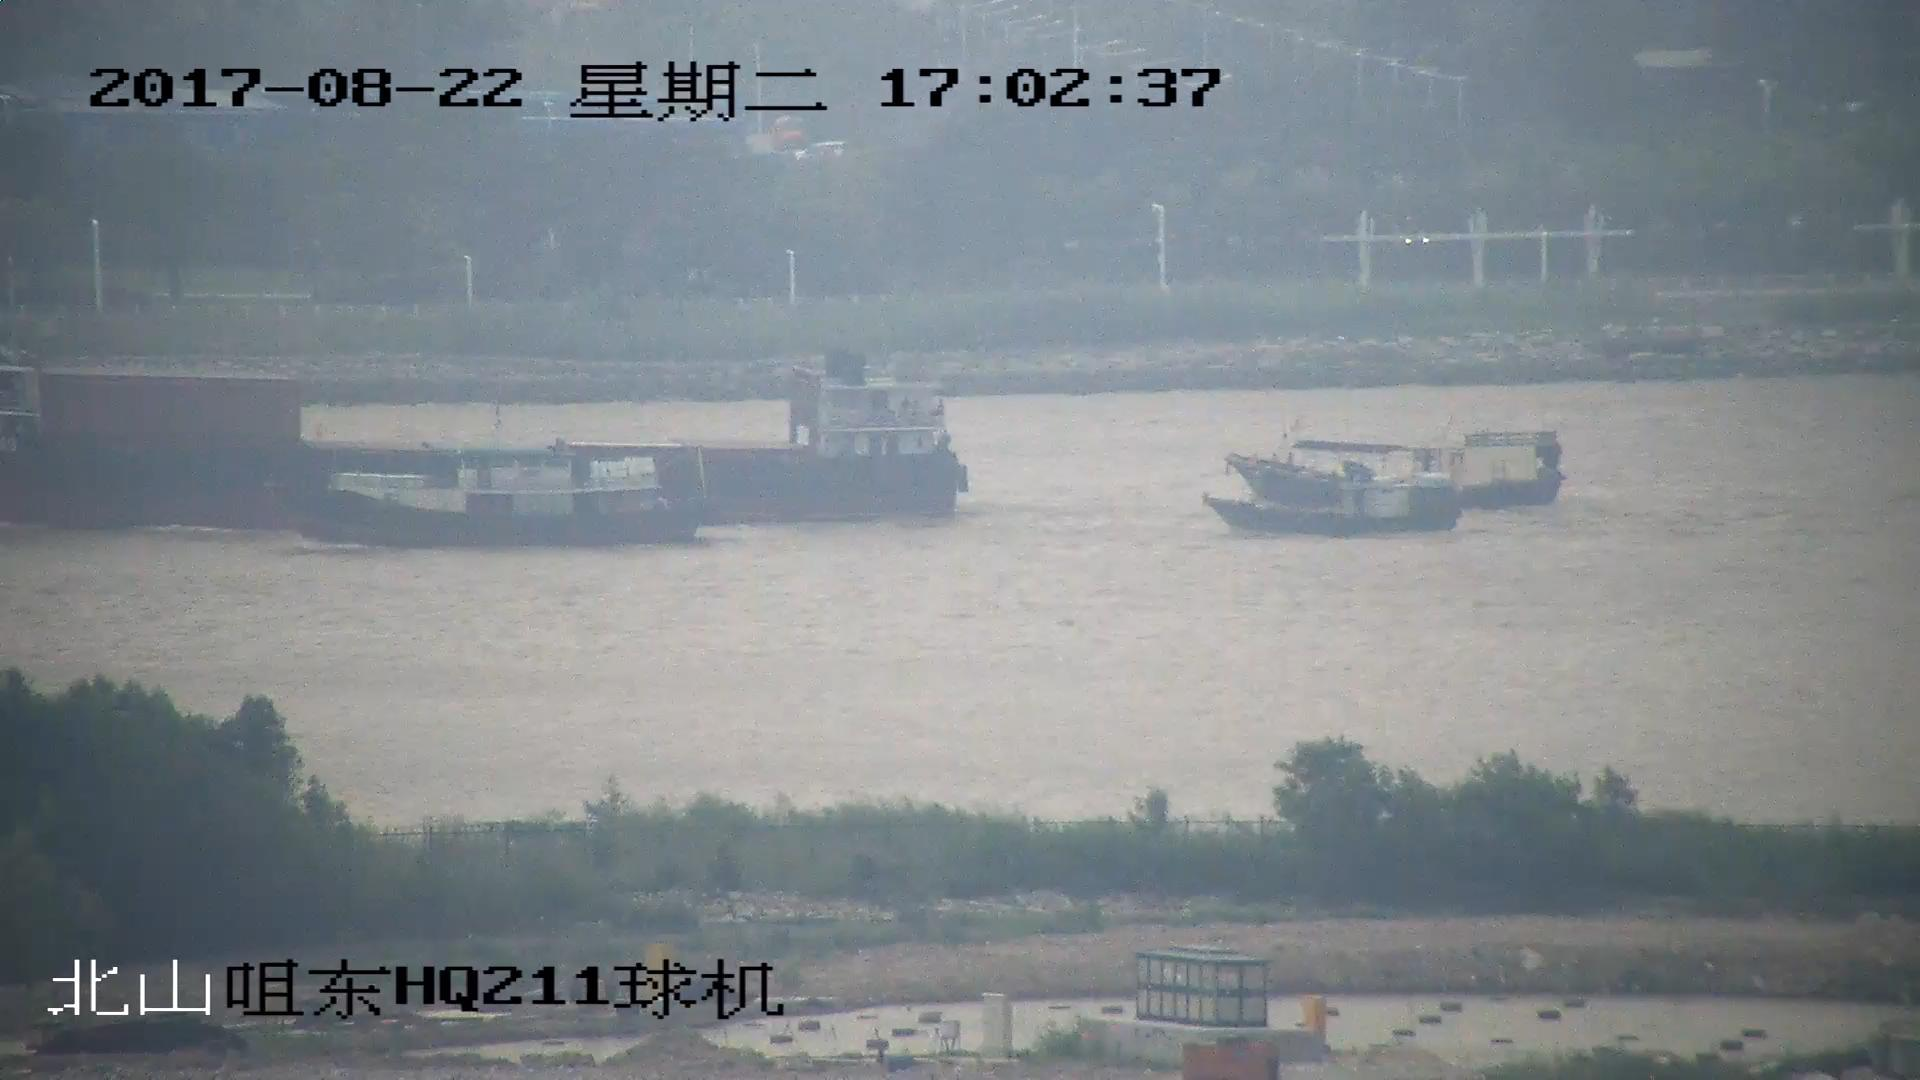Ship: (3, 344, 975, 526), (294, 442, 698, 555), (1232, 425, 1563, 509), (1207, 469, 1462, 535)
